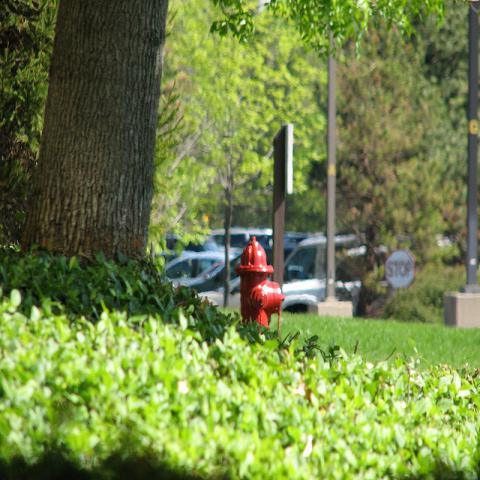car: (282, 232, 367, 317), (182, 244, 248, 294), (202, 228, 274, 265), (165, 250, 226, 285), (198, 278, 243, 312)
